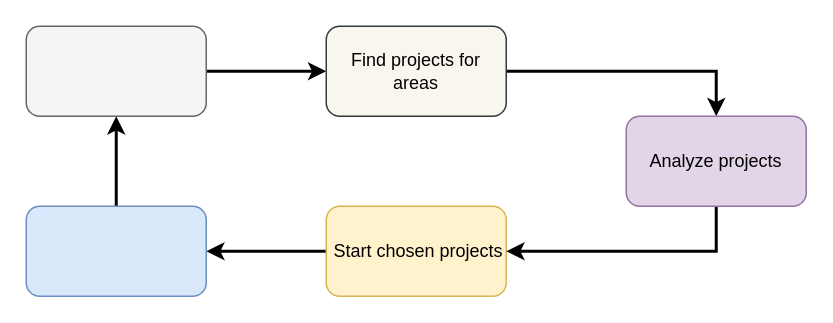
Image size: 833x323. Some labels were removed from this diagram. Here are the shapes that lost their labels. From the top down, the box of each, then its label:
(25, 25, 206, 116): Find areas to work
(25, 205, 206, 296): Measure, track and refine projects
